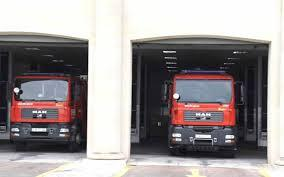Fire-engine: (164, 66, 250, 162), (9, 65, 81, 151), (37, 63, 83, 93)
